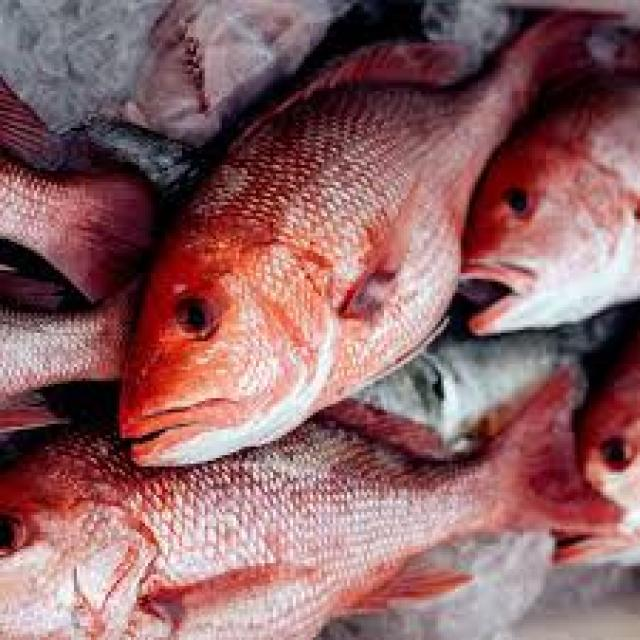Red Snapper: (118, 11, 603, 468)
